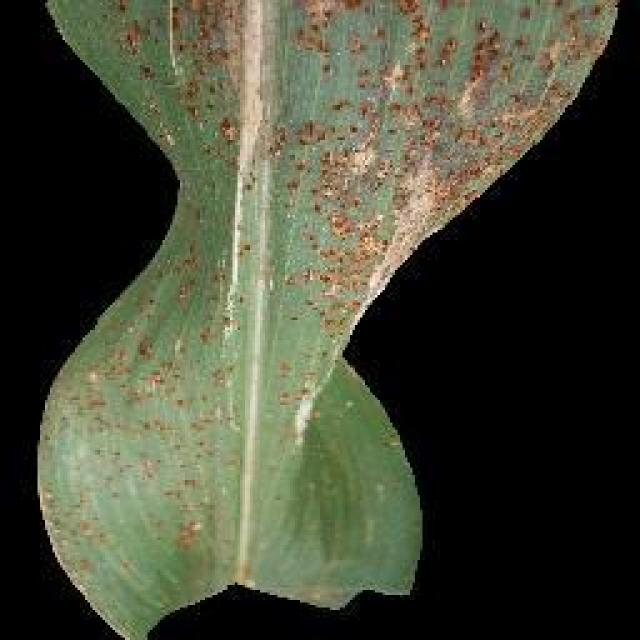Corn Common Rust: (152, 73, 606, 310)
